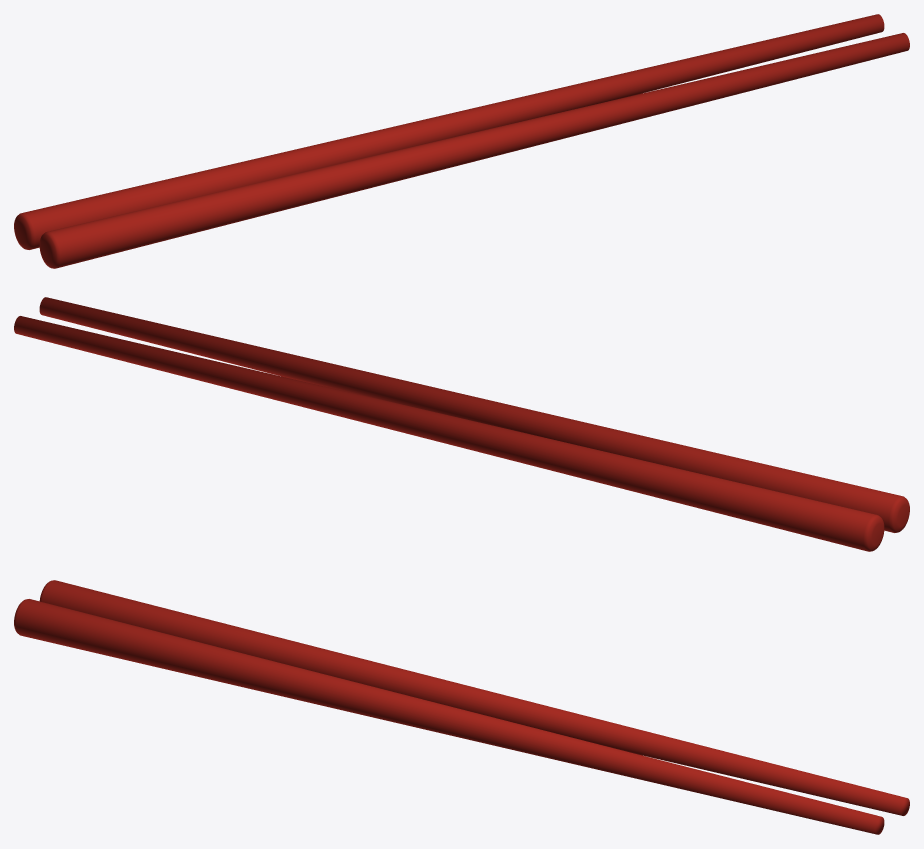
Rendered from chopsticks.fbx.
3 renders of one model, top to bottom at view 1: azimuth 30°, elevation 25°; view 2: azimuth 150°, elevation 25°; view 3: azimuth 330°, elevation 25°, orthographic.
Parts seen in each view (by area): view 1: chopsticks; view 2: chopsticks; view 3: chopsticks.
Part boxes in pixels (x1,y1,x2,y2): chopsticks: (14, 14, 909, 268); chopsticks: (14, 297, 909, 551); chopsticks: (14, 580, 909, 834).
Size of the model in its own units: 961 by 36.8 by 86.27.
